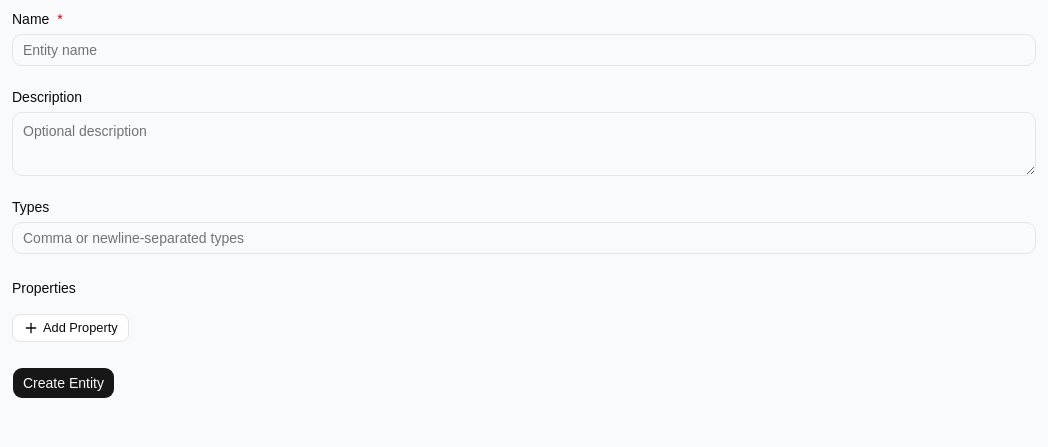
Test: EntityForm › validation › clears error when user types in name field
Note: Trigger error
Click the button with test id "entity-submit": (63, 383) [12,367,115,399]
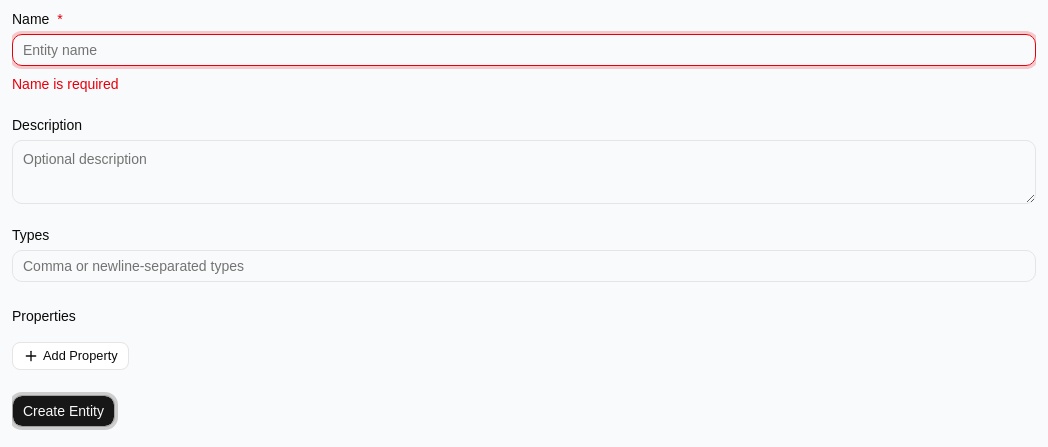
expect the text "Name is required" is shown: met, box [12,76,119,92]
Note: Type to clear error
In the field with test id "entity-name-input": (524, 50) [12,34,1036,66], type "A"
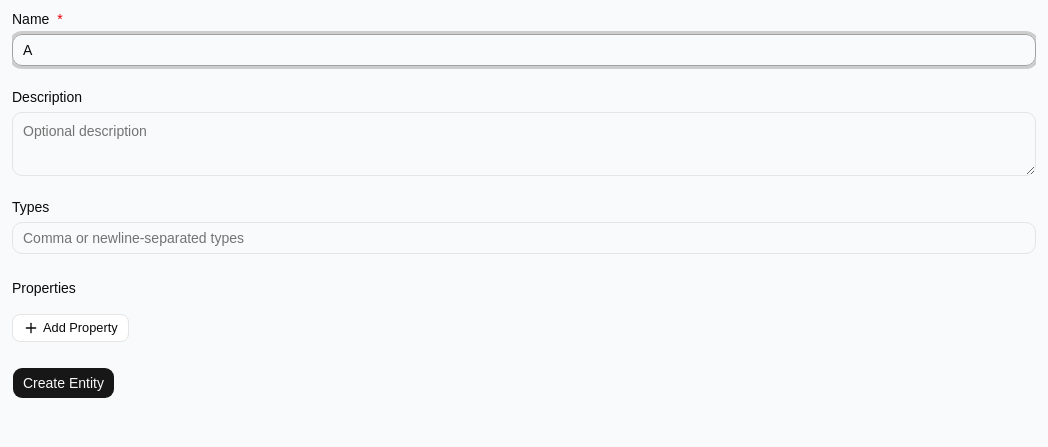
expect the text with test id "name-error" is gone: met
